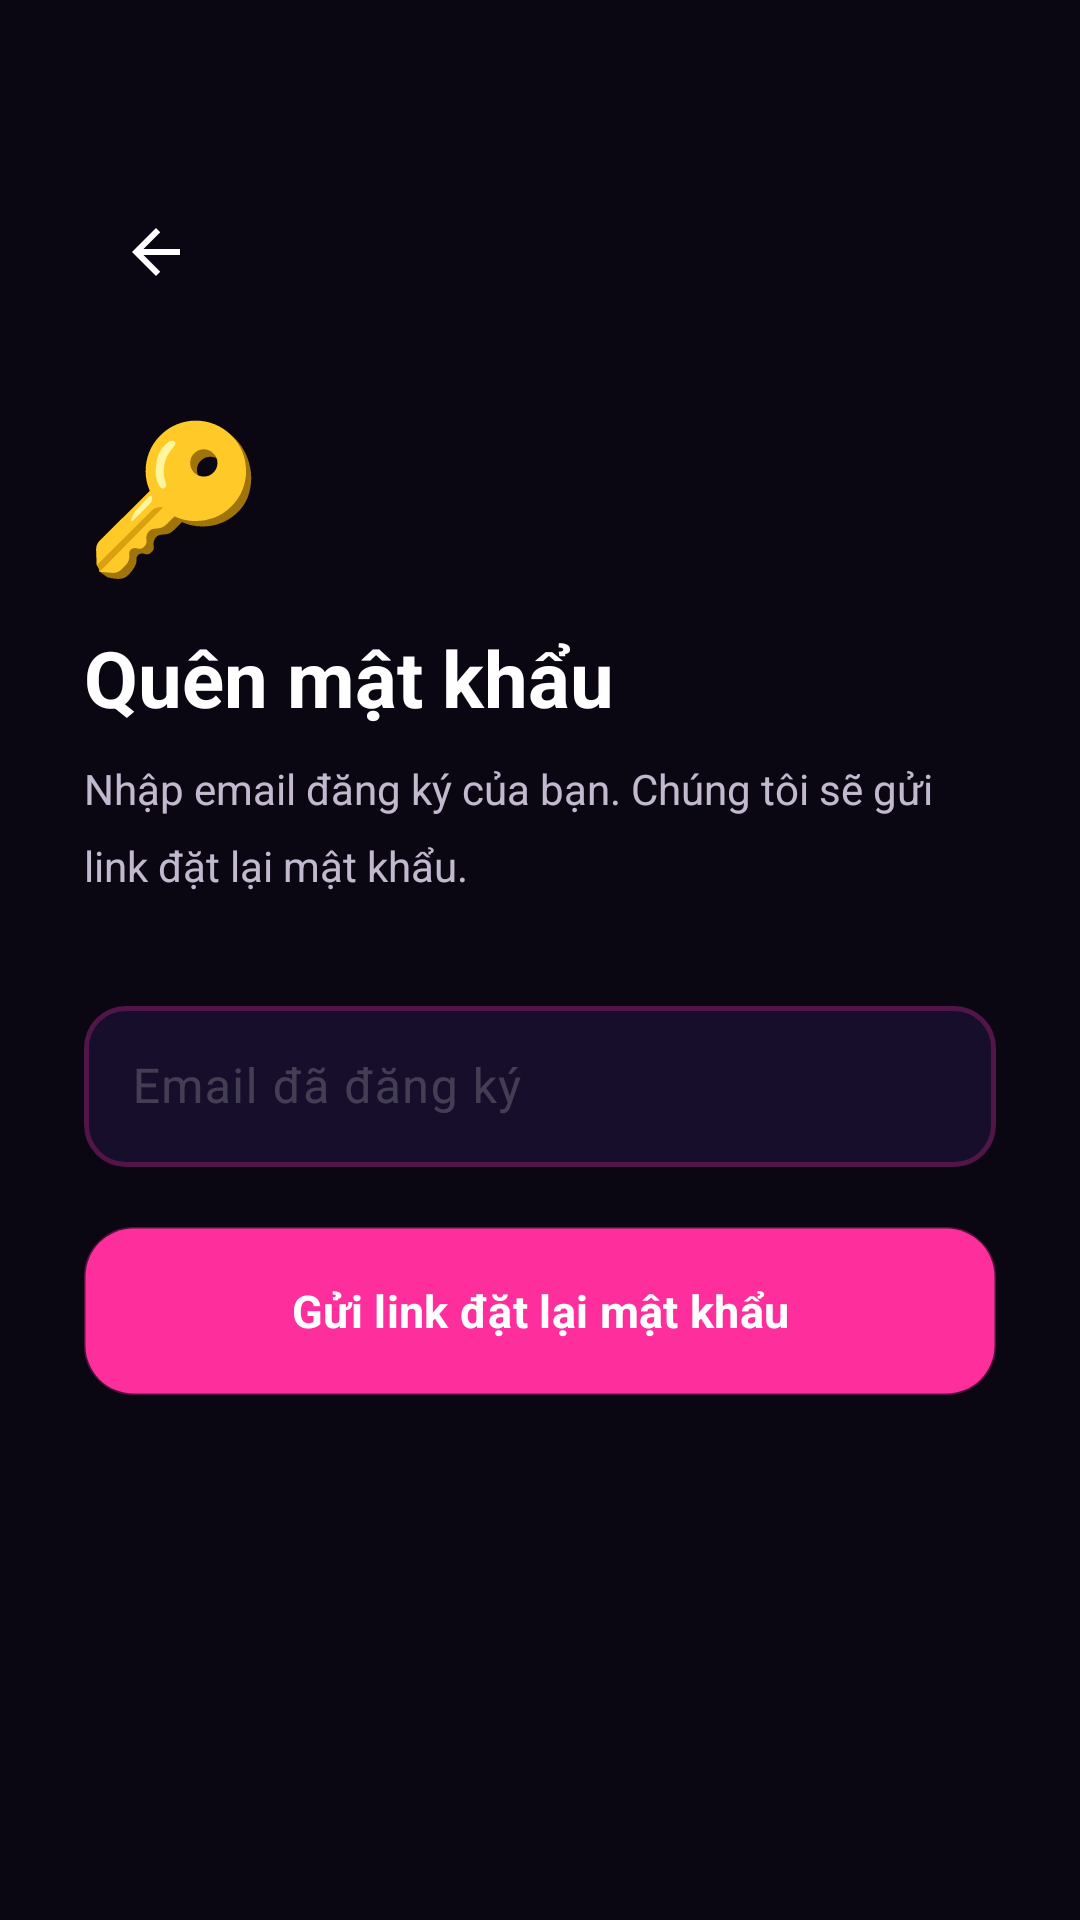

Named icons in this screenshot (1080x1920) and their centers, (x,y):
Quay lại: (156,252)
